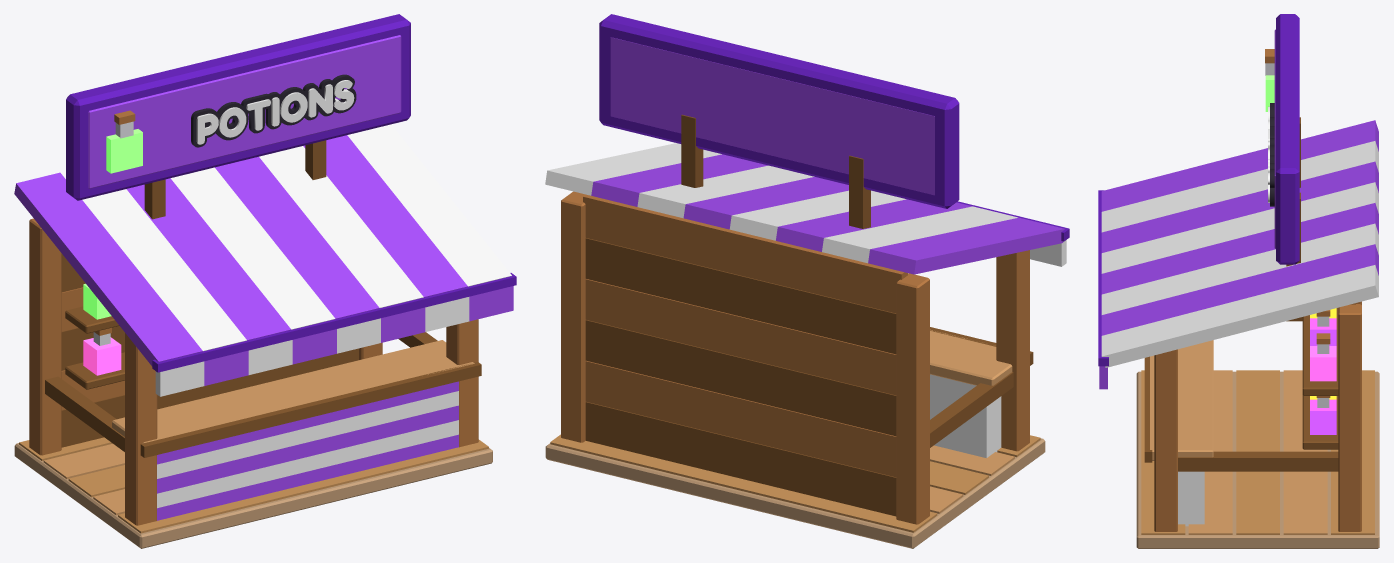
Rendered from shop_potions.fbx.
3 views of the same model, side by side, from view 1: azimuth 30°, elevation 25°; view 2: azimuth 150°, elevation 25°; view 3: azimuth 270°, elevation 25° (orthographic). The views are drawn at different scales.
Visible parts, largest first — view 1: Cube.078, Cube.077, Cube.058, Cube.056, Cube.059, Cube.061, Cube.065, Cube.062, Cube.063, Cube.064, Cube, Cube.060 (+35 smaller); view 2: Cube.078, Cube.077, Cube.015, Cube.011, Cube.012, Cube.013, Cube.014, Cube.010, Cube, Cube.007, Cube.009, Cube.058 (+17 smaller); view 3: Cube.065, Cube, Cube.003, Cube.077, Cube.064, Cube.063, Cube.009, Cube.061, Cube.062, Cube.060, Cube.058, Cube.059 (+17 smaller).
Part boxes in pixels (bbox=[...]): Cube.078: bbox=[88, 35, 401, 188]; Cube.077: bbox=[66, 14, 410, 200]; Cube.058: bbox=[14, 172, 202, 371]; Cube.056: bbox=[112, 340, 474, 443]; Cube.059: bbox=[60, 171, 246, 351]; Cube.061: bbox=[170, 167, 335, 329]; Cube.065: bbox=[347, 124, 511, 286]; Cube.062: bbox=[215, 156, 379, 318]; Cube.063: bbox=[259, 146, 423, 307]; Cube.064: bbox=[303, 135, 467, 297]; Cube: bbox=[14, 443, 492, 548]; Cube.060: bbox=[126, 178, 291, 340]; Cube.078: bbox=[610, 37, 934, 195]; Cube.077: bbox=[599, 14, 959, 208]; Cube.015: bbox=[583, 194, 907, 313]; Cube.011: bbox=[585, 360, 896, 477]; Cube.012: bbox=[585, 320, 896, 436]; Cube.013: bbox=[585, 279, 896, 395]; Cube.014: bbox=[585, 238, 896, 354]; Cube.010: bbox=[585, 401, 896, 516]; Cube: bbox=[545, 438, 1045, 548]; Cube.007: bbox=[896, 273, 929, 524]; Cube.009: bbox=[561, 191, 585, 442]; Cube.058: bbox=[868, 217, 1064, 274]; Cube.065: bbox=[1101, 265, 1378, 367]; Cube: bbox=[1136, 371, 1379, 548]; Cube.003: bbox=[1236, 370, 1279, 534]; Cube.077: bbox=[1276, 14, 1299, 264]; Cube.064: bbox=[1101, 244, 1378, 335]; Cube.063: bbox=[1101, 223, 1378, 314]; Cube.009: bbox=[1338, 304, 1361, 531]; Cube.061: bbox=[1101, 182, 1378, 273]; Cube.062: bbox=[1101, 203, 1378, 294]; Cube.060: bbox=[1101, 161, 1378, 252]; Cube.058: bbox=[1101, 120, 1378, 211]; Cube.059: bbox=[1101, 141, 1378, 232].
Size of the model in its own units: 13.4 by 14 by 9.49.
